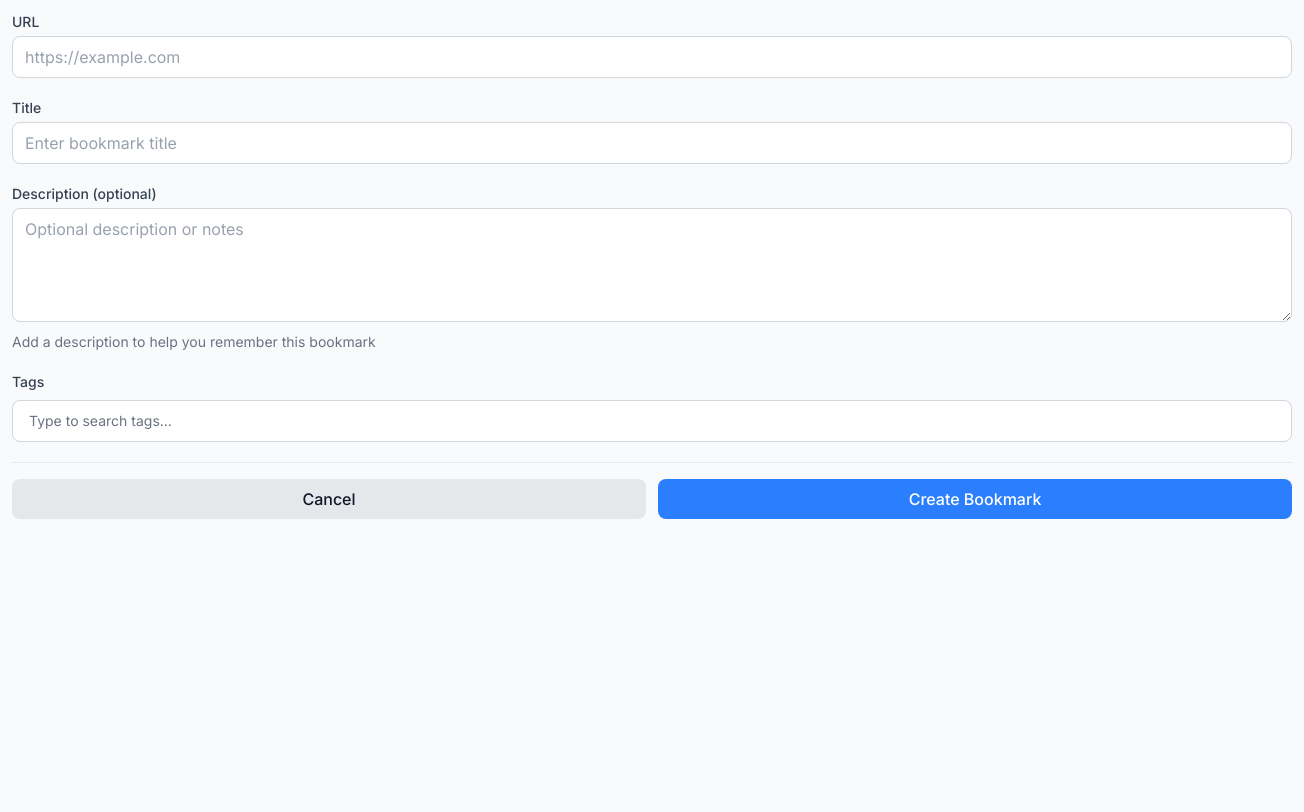
Test: BookmarkForm › should validate required URL field
Click the button "Create Bookmark" at (975, 499), box [658,479,1292,519]
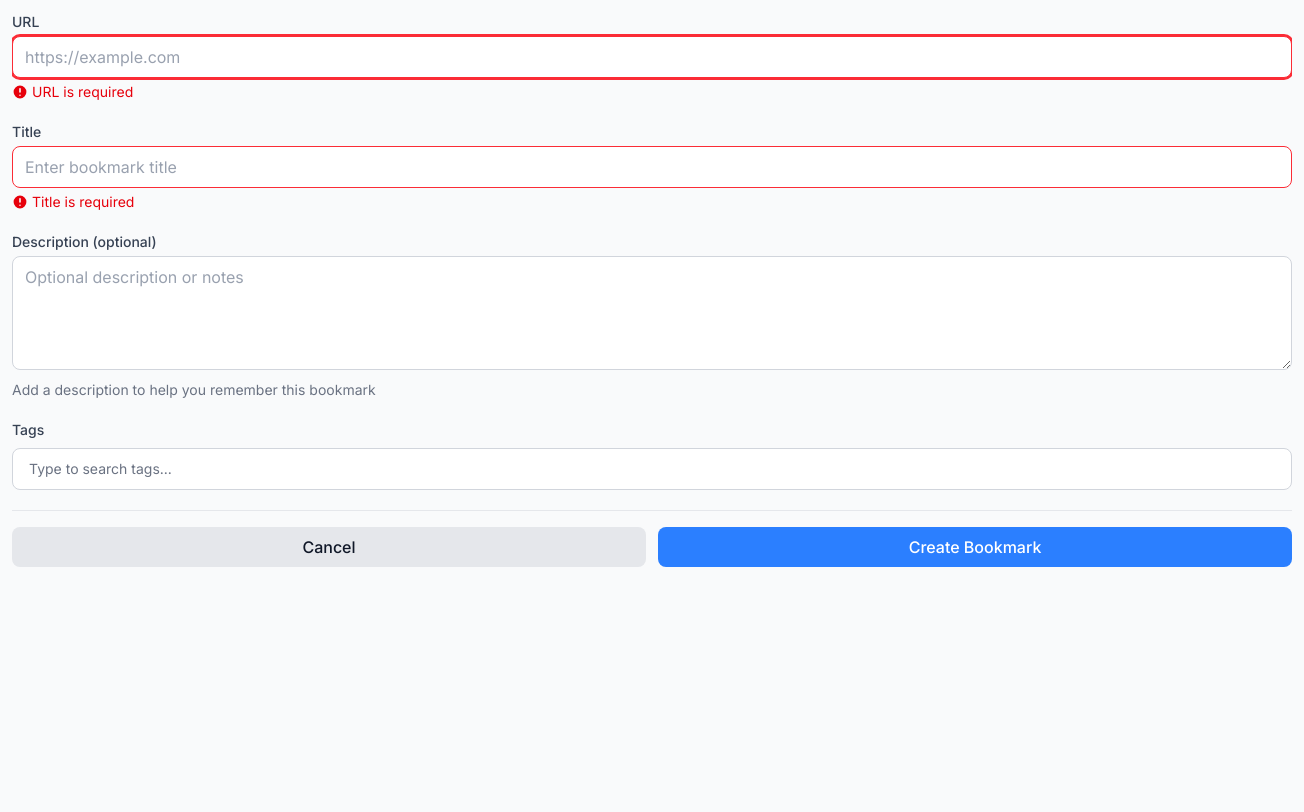
Expected: the text "URL is required" is shown, [12,83,133,100]
